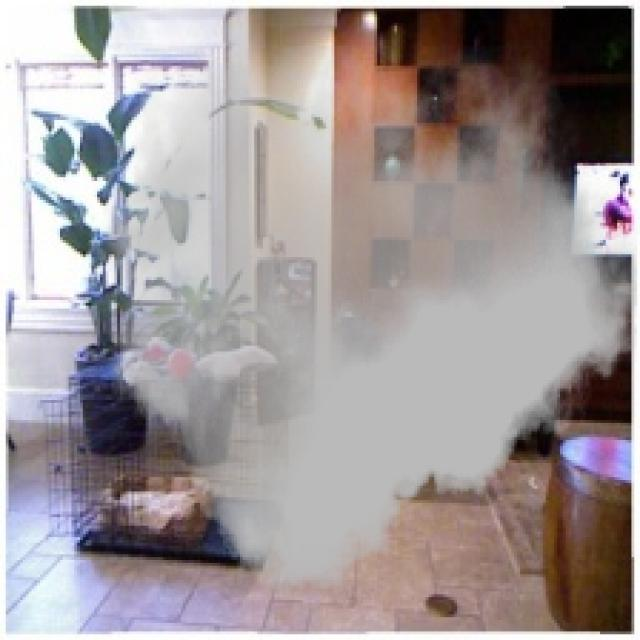smoke: (103, 46, 637, 588)
